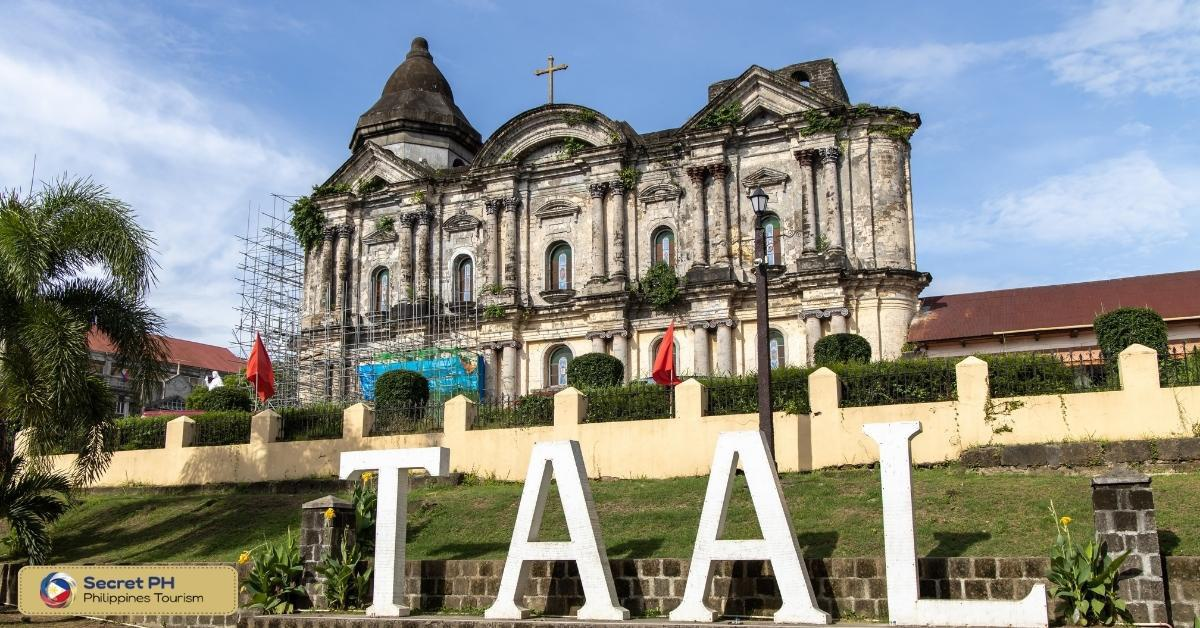taal_basilica_church_taal_batangas: (284, 20, 925, 382)
